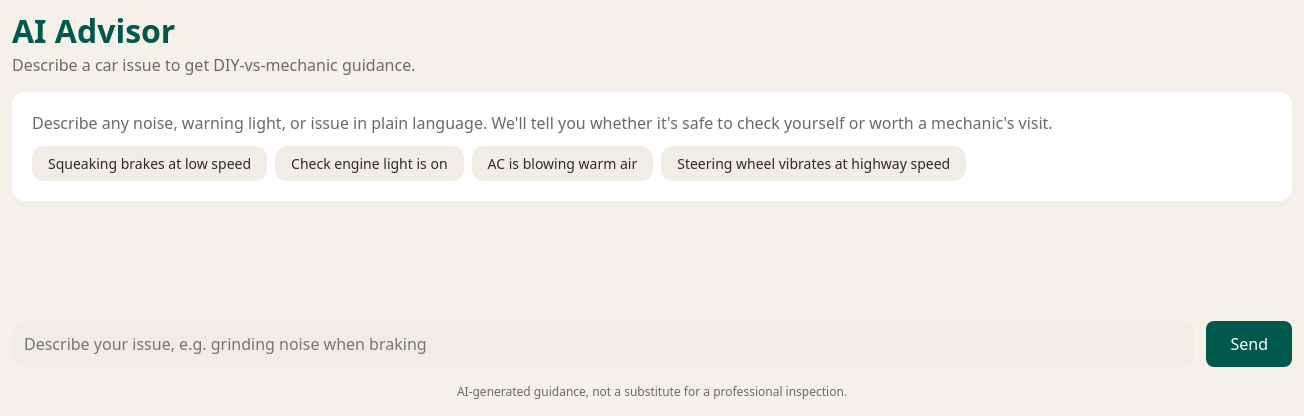
Test case: AIAdvisorPage — chatting › shows a mechanic response as plain guidance text, not a numbered list
This screenshot has width=1304, height=416.
Type "Brakes are grinding" into the field with placeholder "Describe your issue, e.g. grinding noise when braking". click: (603, 344)
box: [12,321,1194,367]
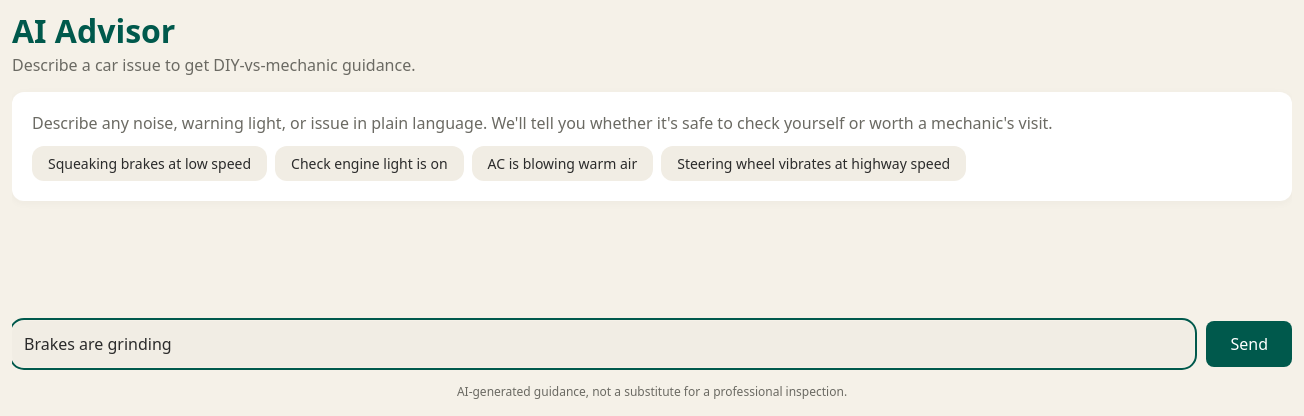
Click the button "Send". click: (1249, 344)
box: [1206,321,1292,367]
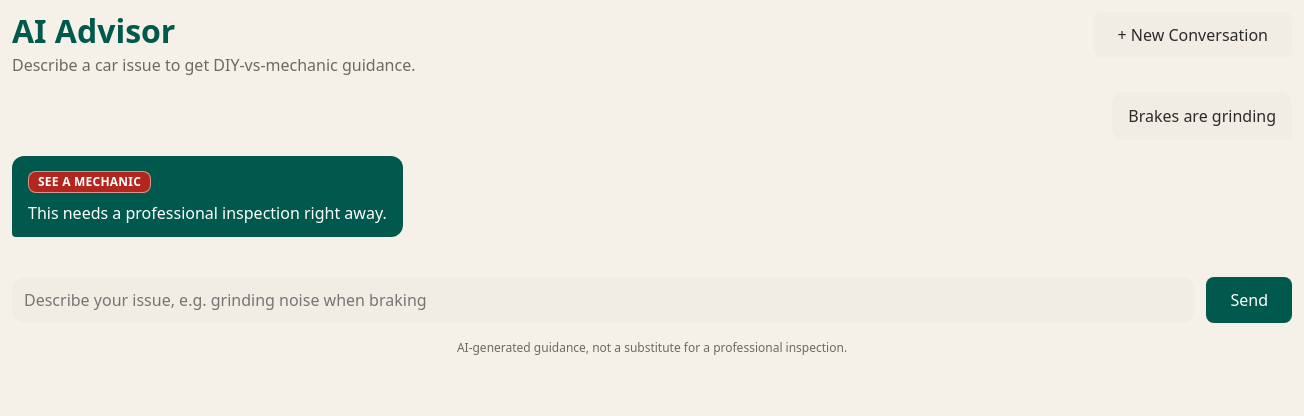
Now the text "See a Mechanic" is shown, box [28,171,151,193]
Now the text "This needs a professional inspection right away." is shown, box [28,201,387,225]
